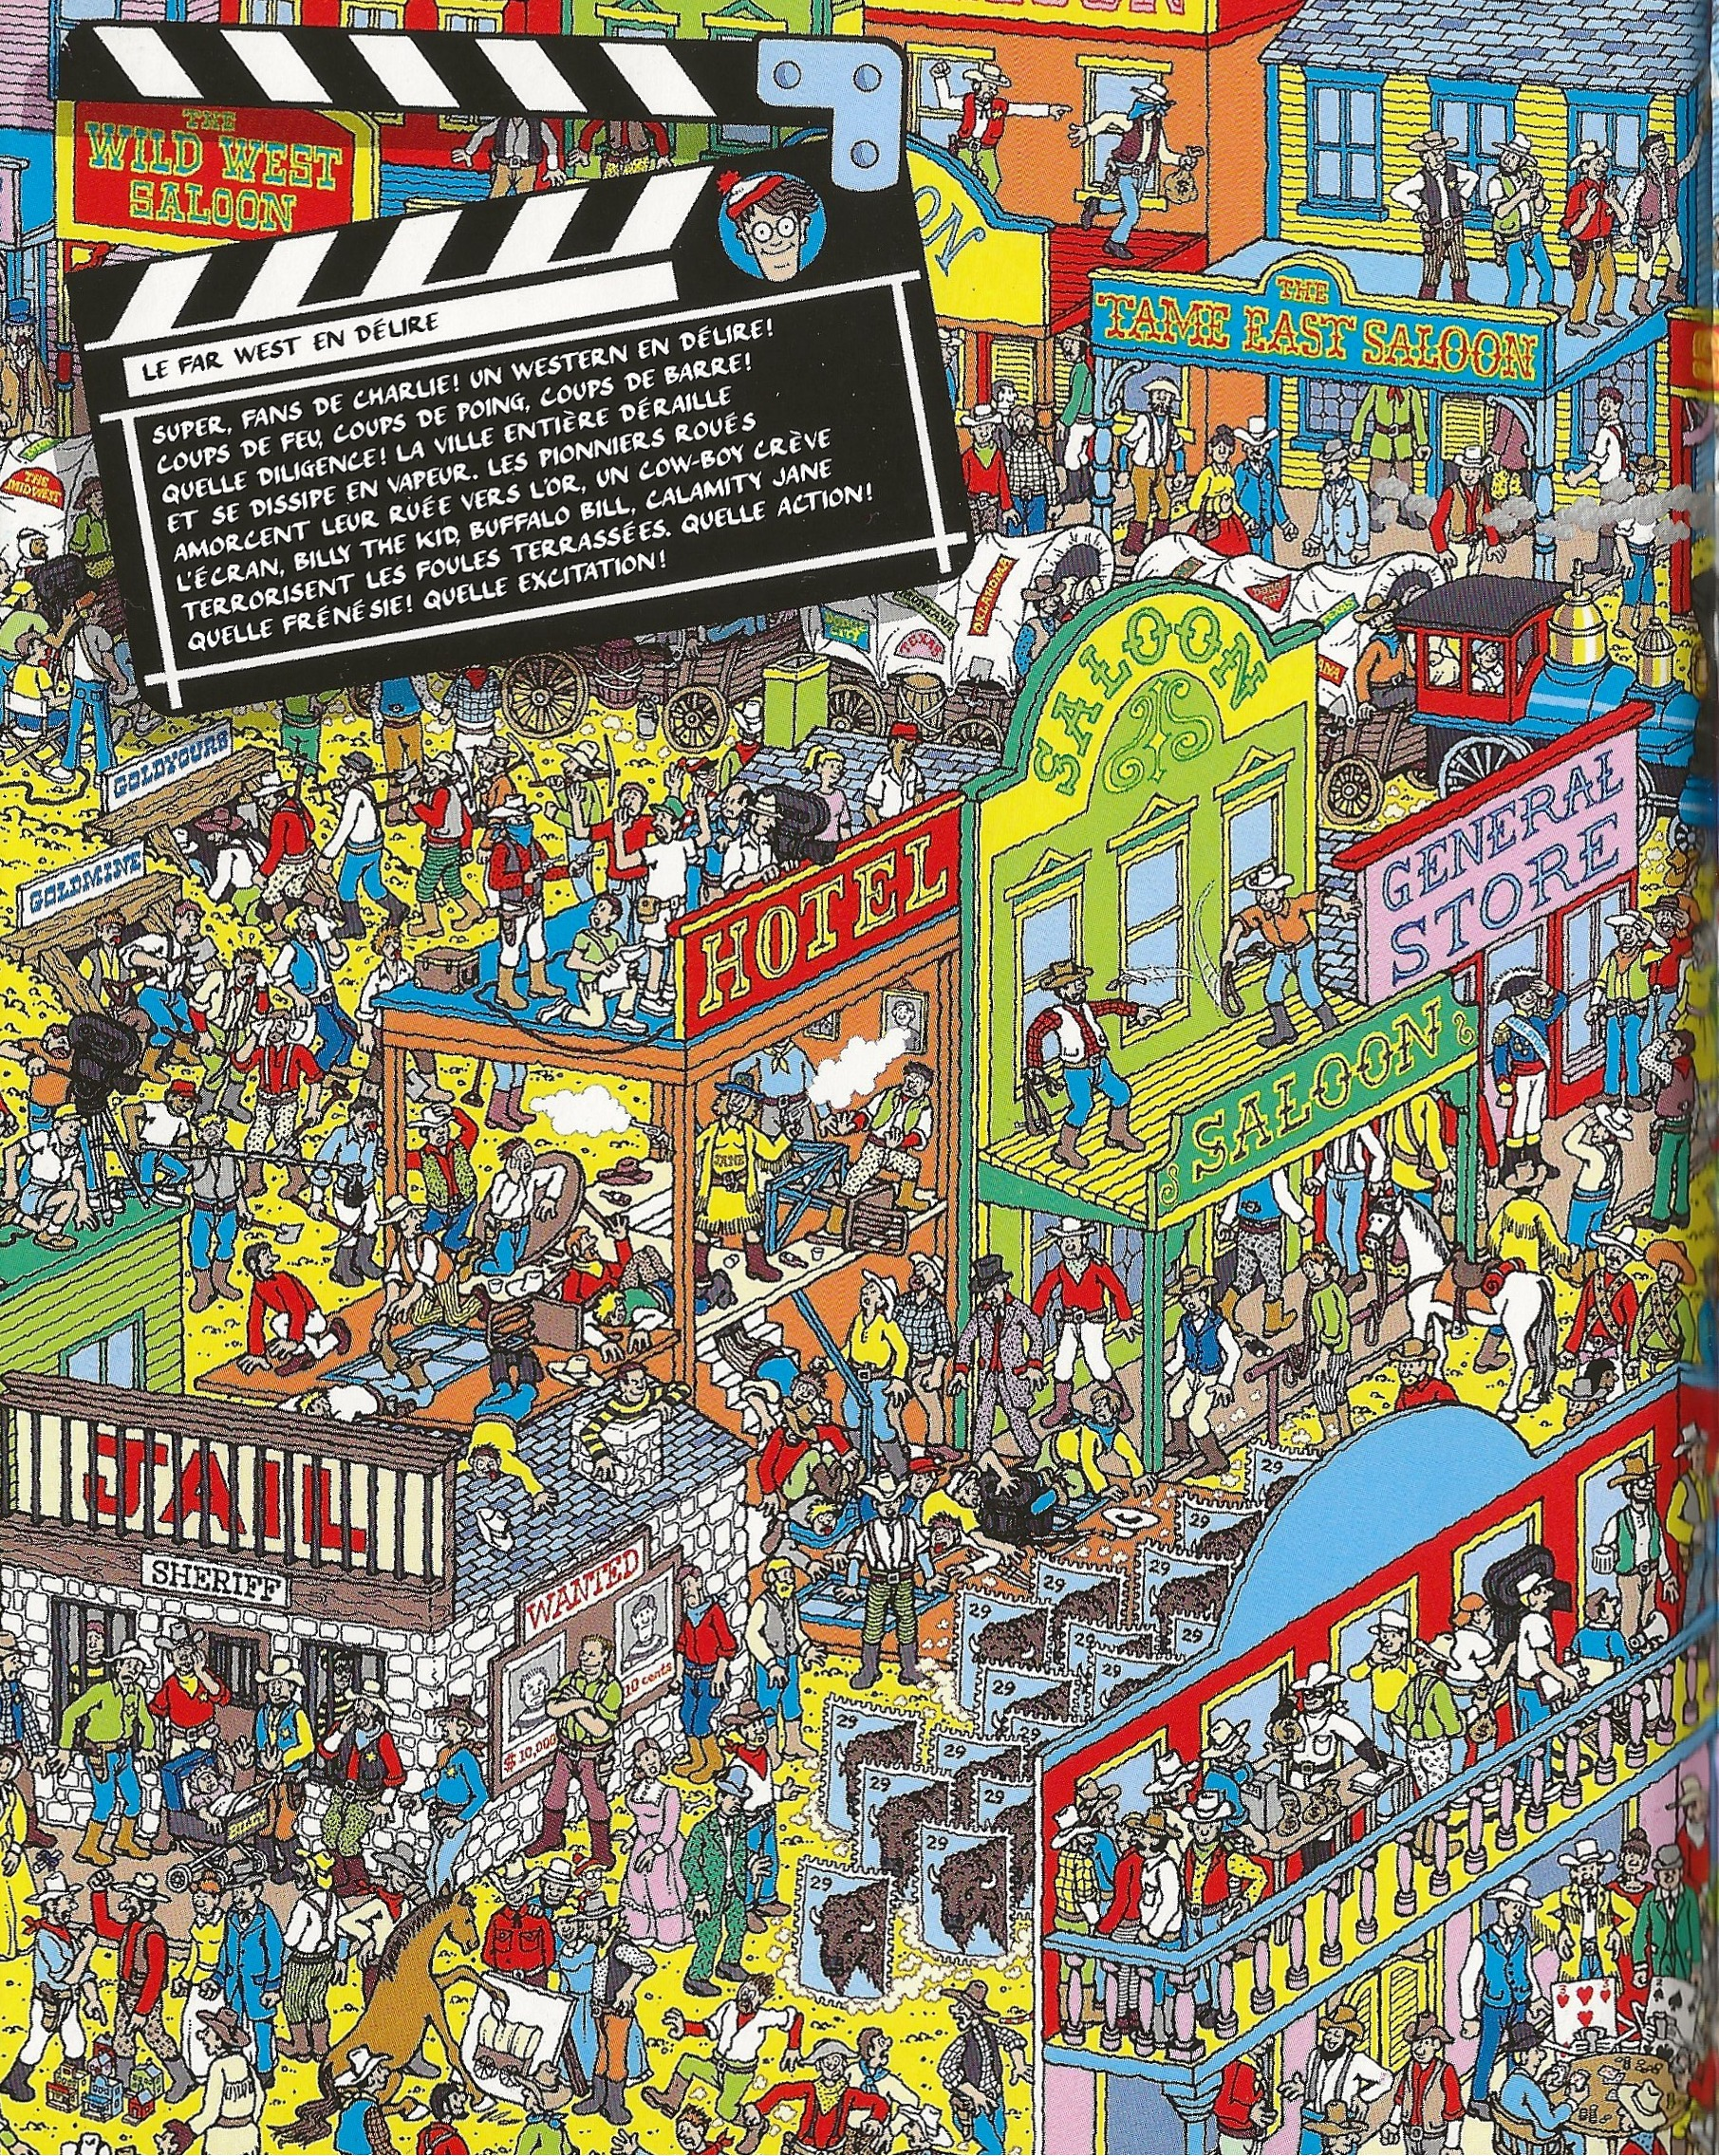Odlaw: (316, 1648, 353, 1739)
Wenda: (677, 757, 719, 827)
